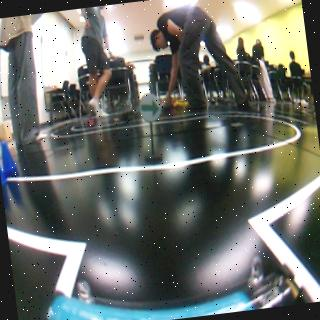right: (138, 91, 162, 123)
